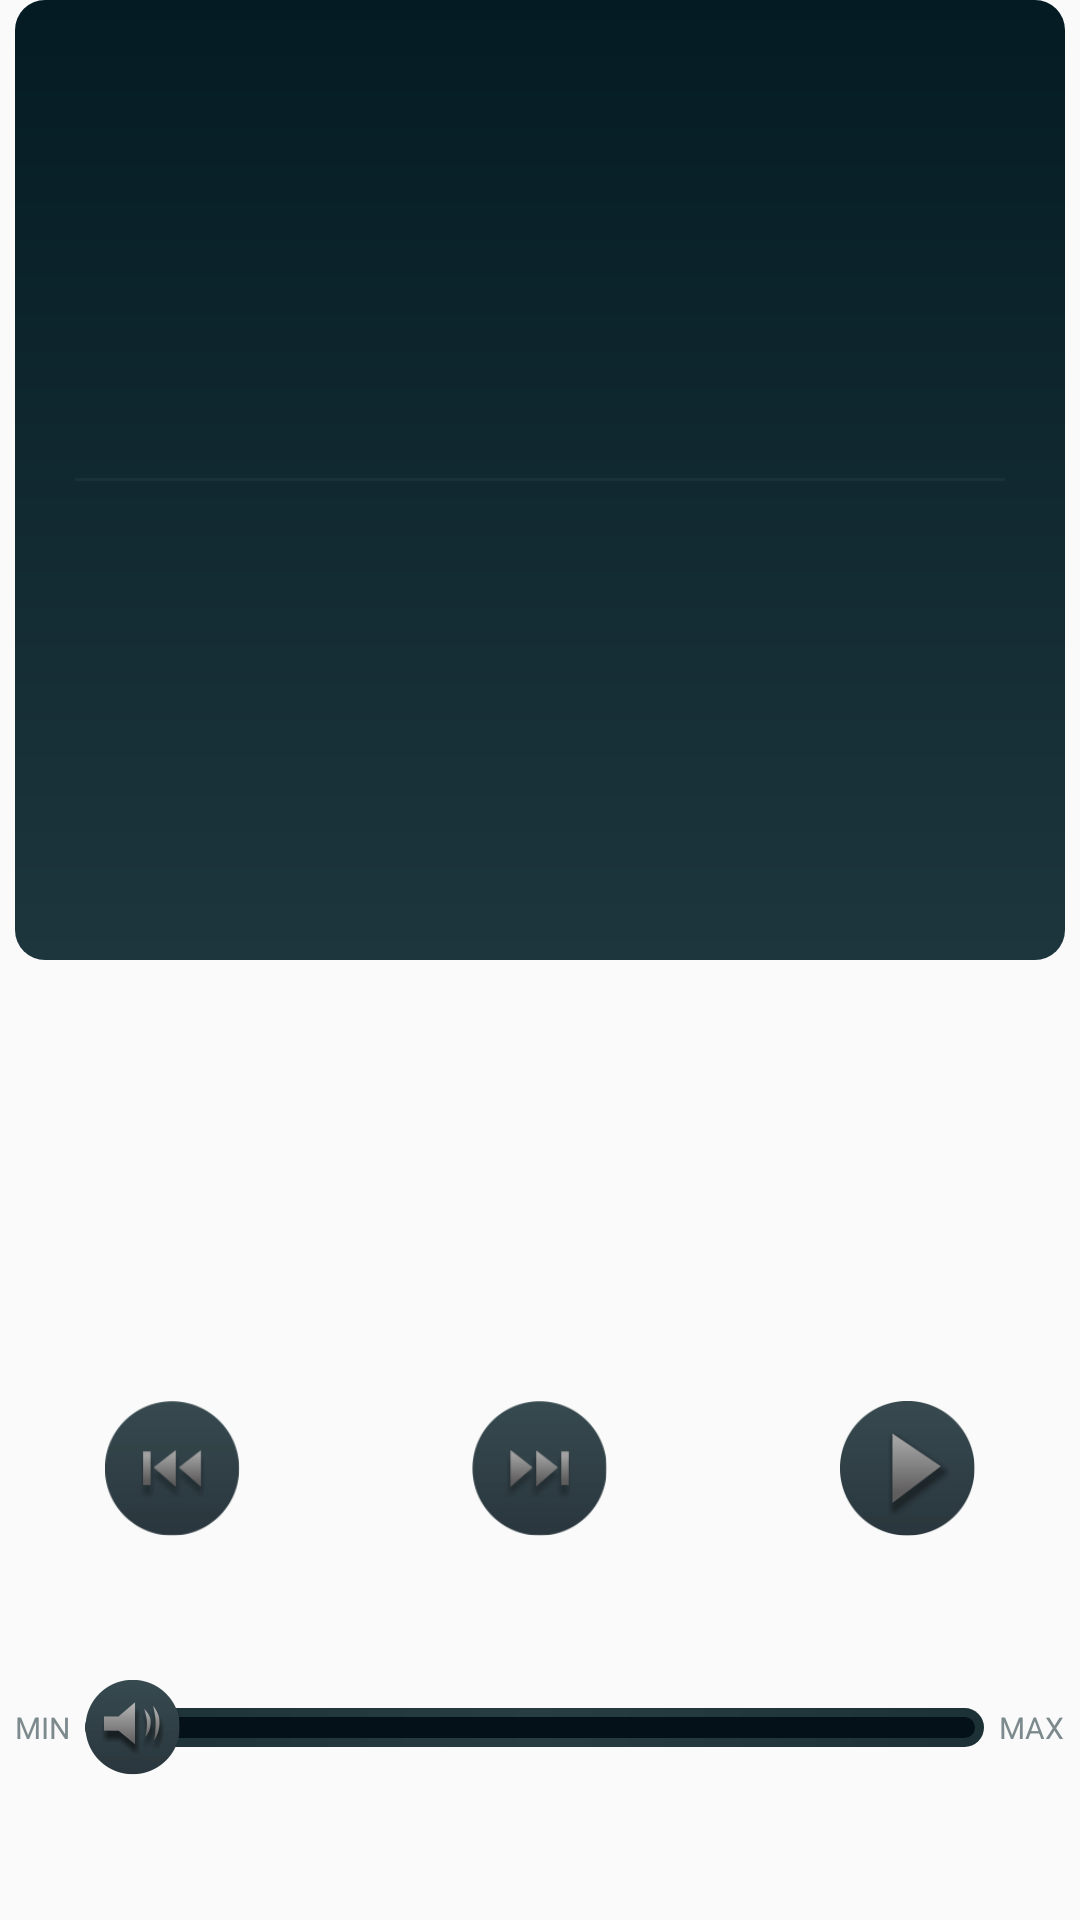

Locate icon controls on the screen. Image size 1080px×1920px, boxes as box=[x1, y1, x2, y2].
next: box=[472, 1401, 607, 1536]
play: box=[840, 1401, 975, 1536]
previous: box=[105, 1401, 239, 1536]
